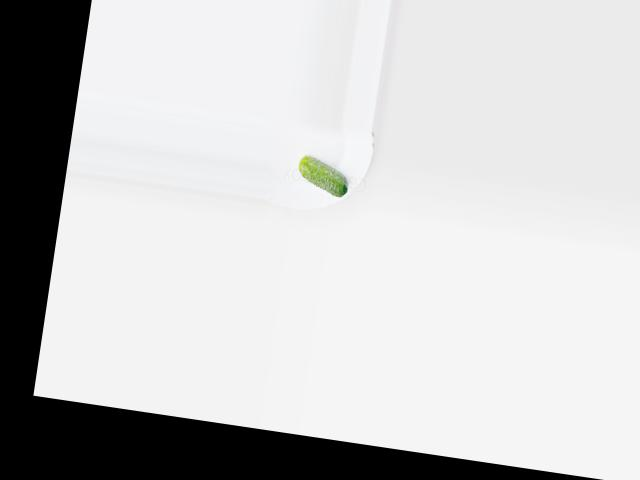cucumber: (295, 154, 350, 197)
